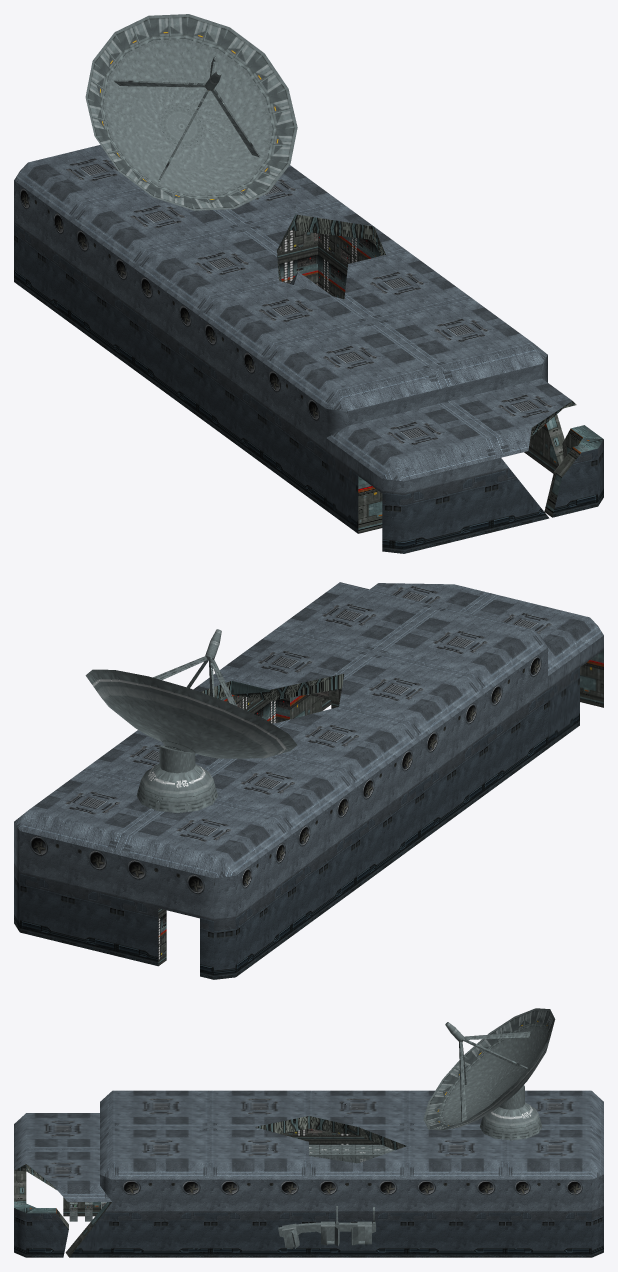
The model's file is pbcomm00.fbx.
The picture shows the model from 3 angles, top to bottom: view 1: azimuth 30°, elevation 25°; view 2: azimuth 150°, elevation 25°; view 3: azimuth 270°, elevation 25°; orthographic projection. The views are drawn at different scales.
Parts seen in each view (by area): view 1: roof, pbcomm00, satdish, intwall2, intwall1, ceiling; view 2: roof, pbcomm00, satdish, turret, intwall2, intwall1, ceiling; view 3: roof, pbcomm00, satdish, turret, fusebox, ceiling, intwall1, server, intwall2, cpubank.
Boxes of the visible parts, bbox=[...] form: roof: bbox=[14, 145, 571, 481]; pbcomm00: bbox=[14, 180, 603, 553]; satdish: bbox=[85, 14, 297, 210]; intwall2: bbox=[277, 230, 380, 299]; intwall1: bbox=[358, 414, 603, 533]; ceiling: bbox=[277, 214, 576, 436]; roof: bbox=[14, 582, 603, 878]; pbcomm00: bbox=[14, 635, 603, 979]; satdish: bbox=[85, 629, 297, 758]; turret: bbox=[136, 745, 217, 812]; intwall2: bbox=[158, 688, 341, 965]; intwall1: bbox=[290, 650, 603, 719]; ceiling: bbox=[200, 673, 344, 706]; roof: bbox=[14, 1090, 603, 1201]; pbcomm00: bbox=[14, 1174, 603, 1257]; satdish: bbox=[423, 1008, 555, 1130]; turret: bbox=[480, 1085, 542, 1140]; fusebox: bbox=[278, 1206, 375, 1249]; ceiling: bbox=[14, 1116, 406, 1190]; intwall1: bbox=[14, 1170, 111, 1257]; server: bbox=[309, 1144, 394, 1163]; intwall2: bbox=[280, 1128, 380, 1144]; cpubank: bbox=[69, 1202, 106, 1221].
Size of the model in its own units: 17.43 by 17.69 by 48.
